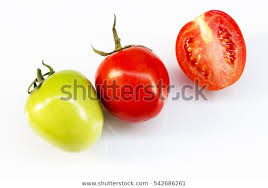tomato: (176, 10, 247, 91), (96, 46, 169, 123)
